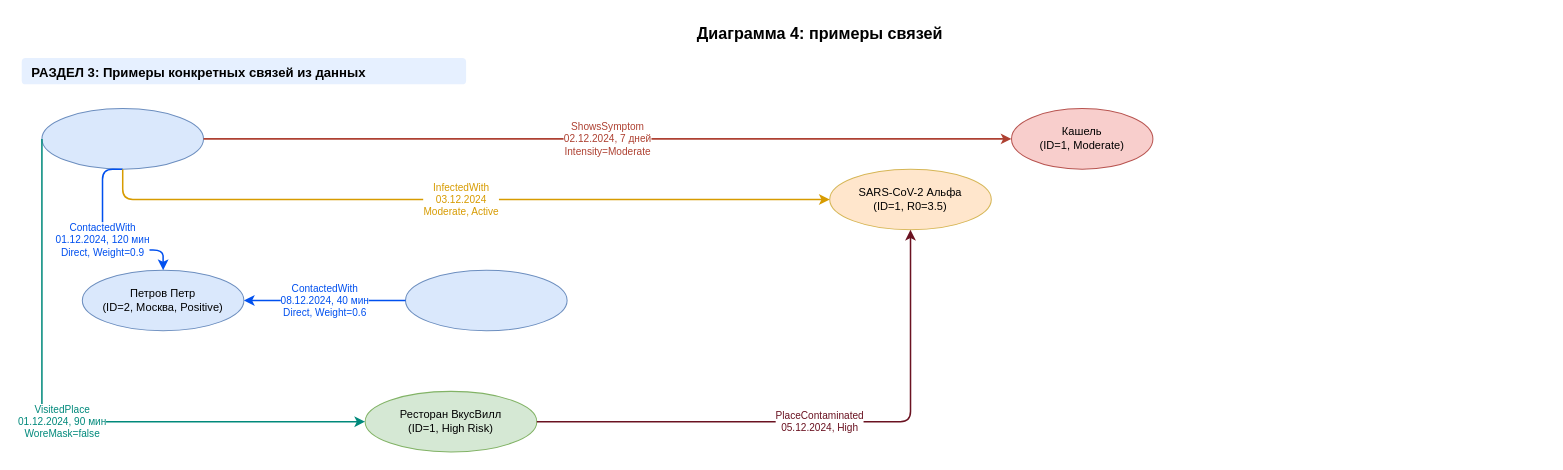
Image size: 1563x470. Some labels were removed from this diagram. The shapes that lost their labels are listed below. From the top down, each one's box as (x1, y1, x2, y2) in pixels, then its label:
(41, 108, 204, 169): Иванов Иван (ID=1, Москва, Positive)
(405, 269, 567, 331): Морозов Игорь (ID=8, Новосибирск, Positive)
